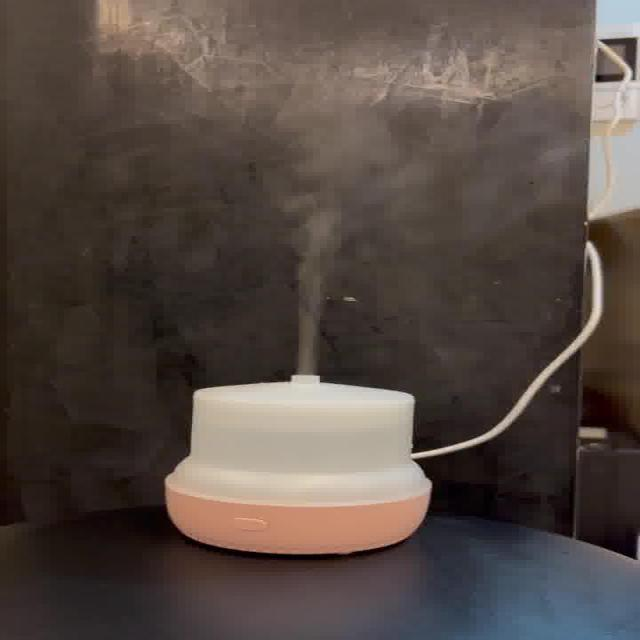fire: (271, 110, 430, 372)
